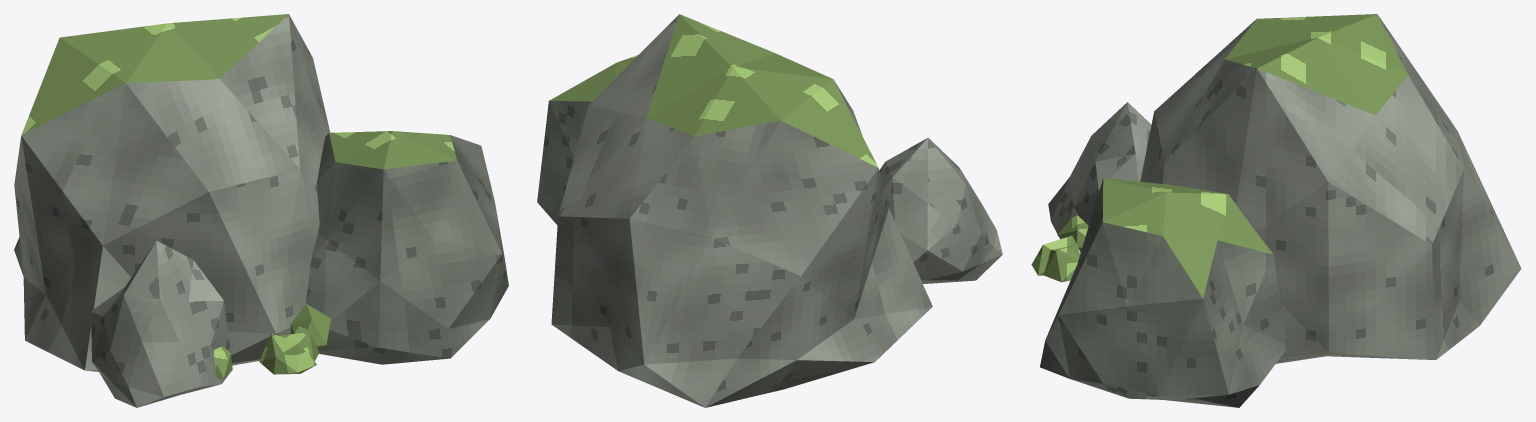
Rendered from map01-obj05.glb.
The picture shows the model from 3 angles, left to right: view 1: azimuth 30°, elevation 25°; view 2: azimuth 150°, elevation 25°; view 3: azimuth 270°, elevation 25°; orthographic projection. The views are drawn at different scales.
Visible parts, largest first — view 1: map01_obj052; view 2: map01_obj052; view 3: map01_obj052.
Boxes of the visible parts, <box> form: map01_obj052: <box>14,14,508,407</box>; map01_obj052: <box>537,14,1002,407</box>; map01_obj052: <box>1031,14,1521,407</box>.
Size of the model in its own units: 0.93 by 0.67 by 0.96.
Materials: 3 (3 with a texture image).
